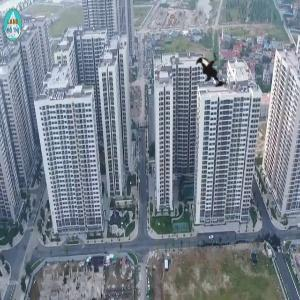drone: (185, 41, 246, 102)
